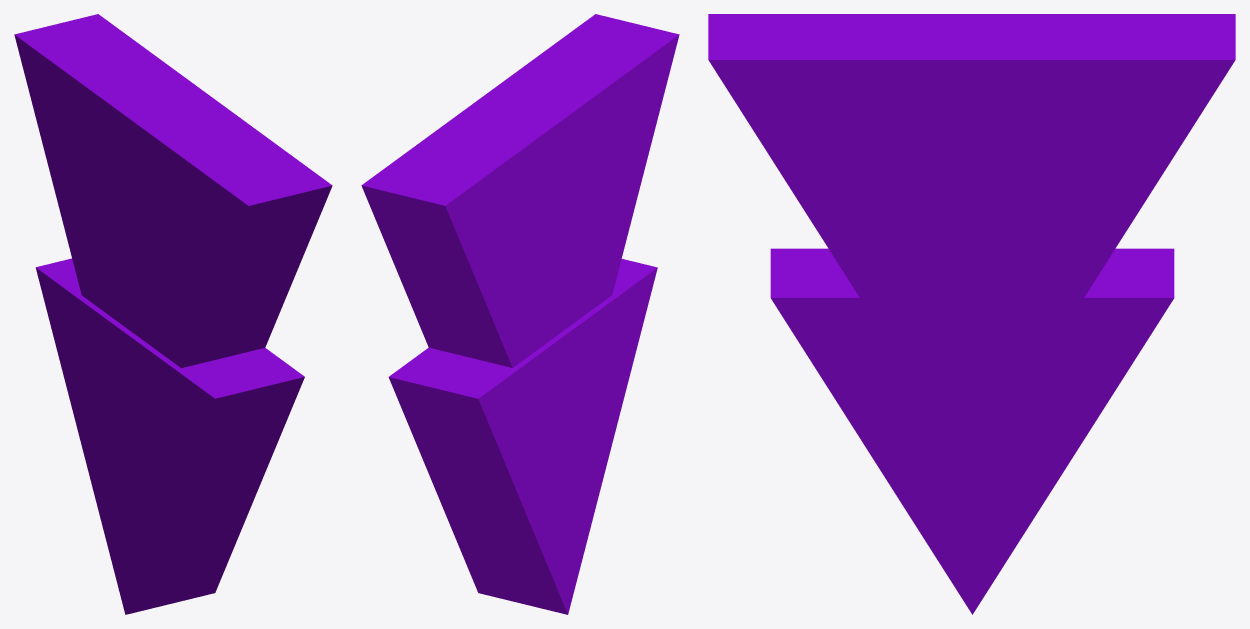
Rendered from TriangleBuster2.fbx.
The picture shows the model from 3 angles, left to right: view 1: azimuth 30°, elevation 25°; view 2: azimuth 150°, elevation 25°; view 3: azimuth 270°, elevation 25°; orthographic projection. The views are drawn at different scales.
Parts seen in each view (by area): view 1: Triangle; view 2: Triangle; view 3: Triangle.
Part boxes in pixels (x1,y1,x2,y2): Triangle: (14,14,332,614); Triangle: (361,14,679,614); Triangle: (708,14,1235,614).
Bounding box in the file's own units: 20.63 × 108 × 93.2.
